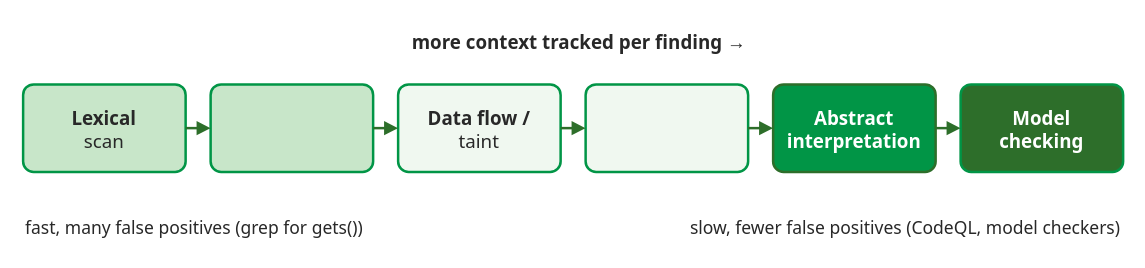
Image size: 1145x268. Some labels were removed from this diagram. Each missing label, with the centre of its shape:
AST / semantic (Bandit): the point at 291,127
Control flow: the point at 666,127
